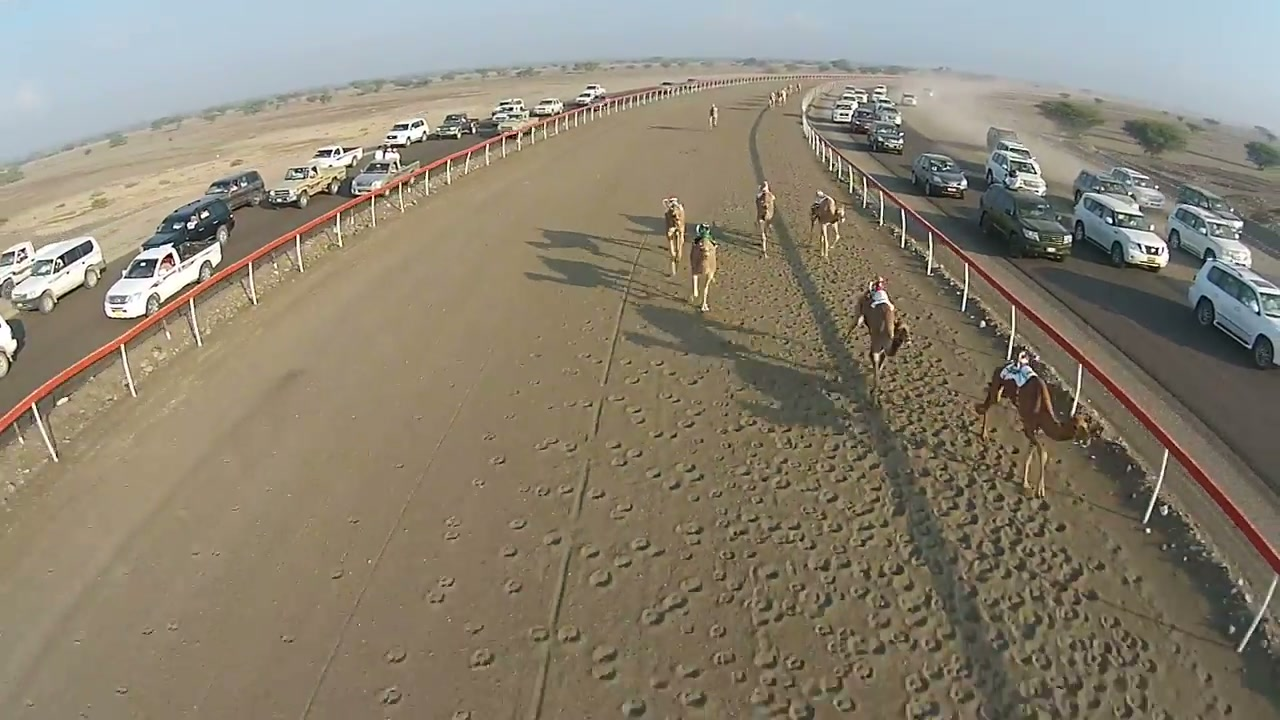animal_foot_print: (346, 113, 1270, 717), (547, 193, 1202, 717)
